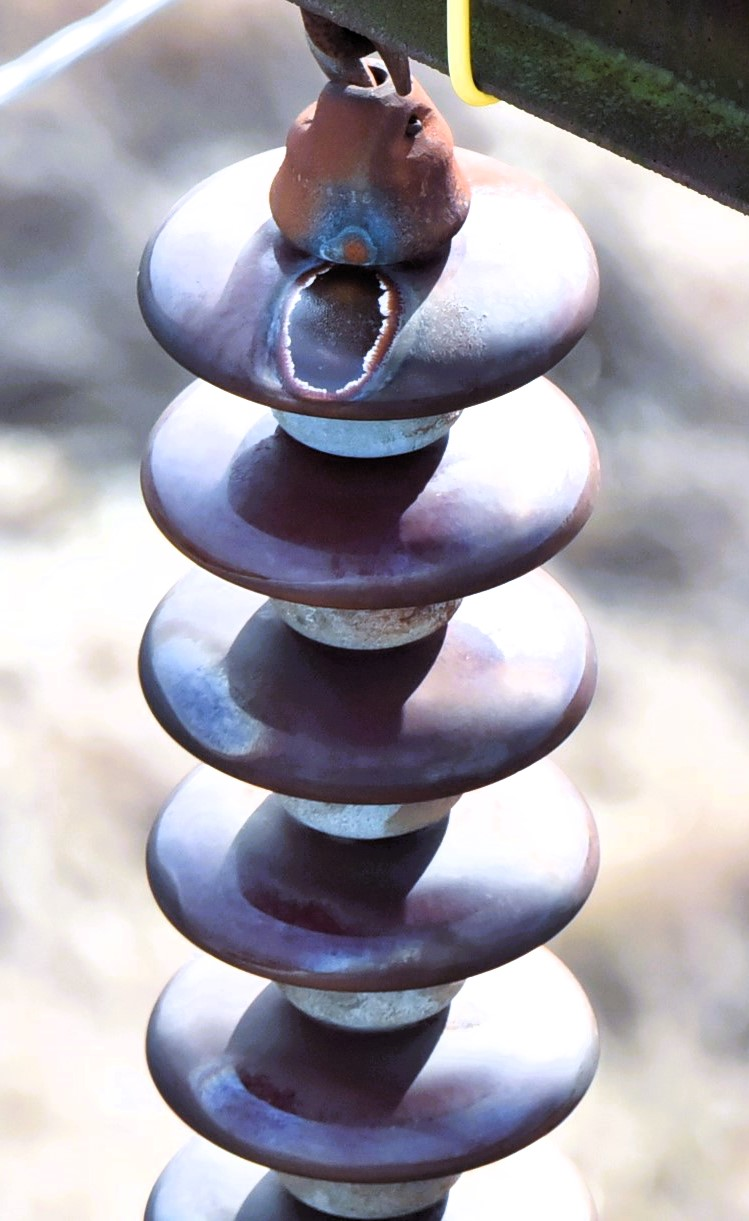Insulator flashover: (120, 107, 611, 429)
